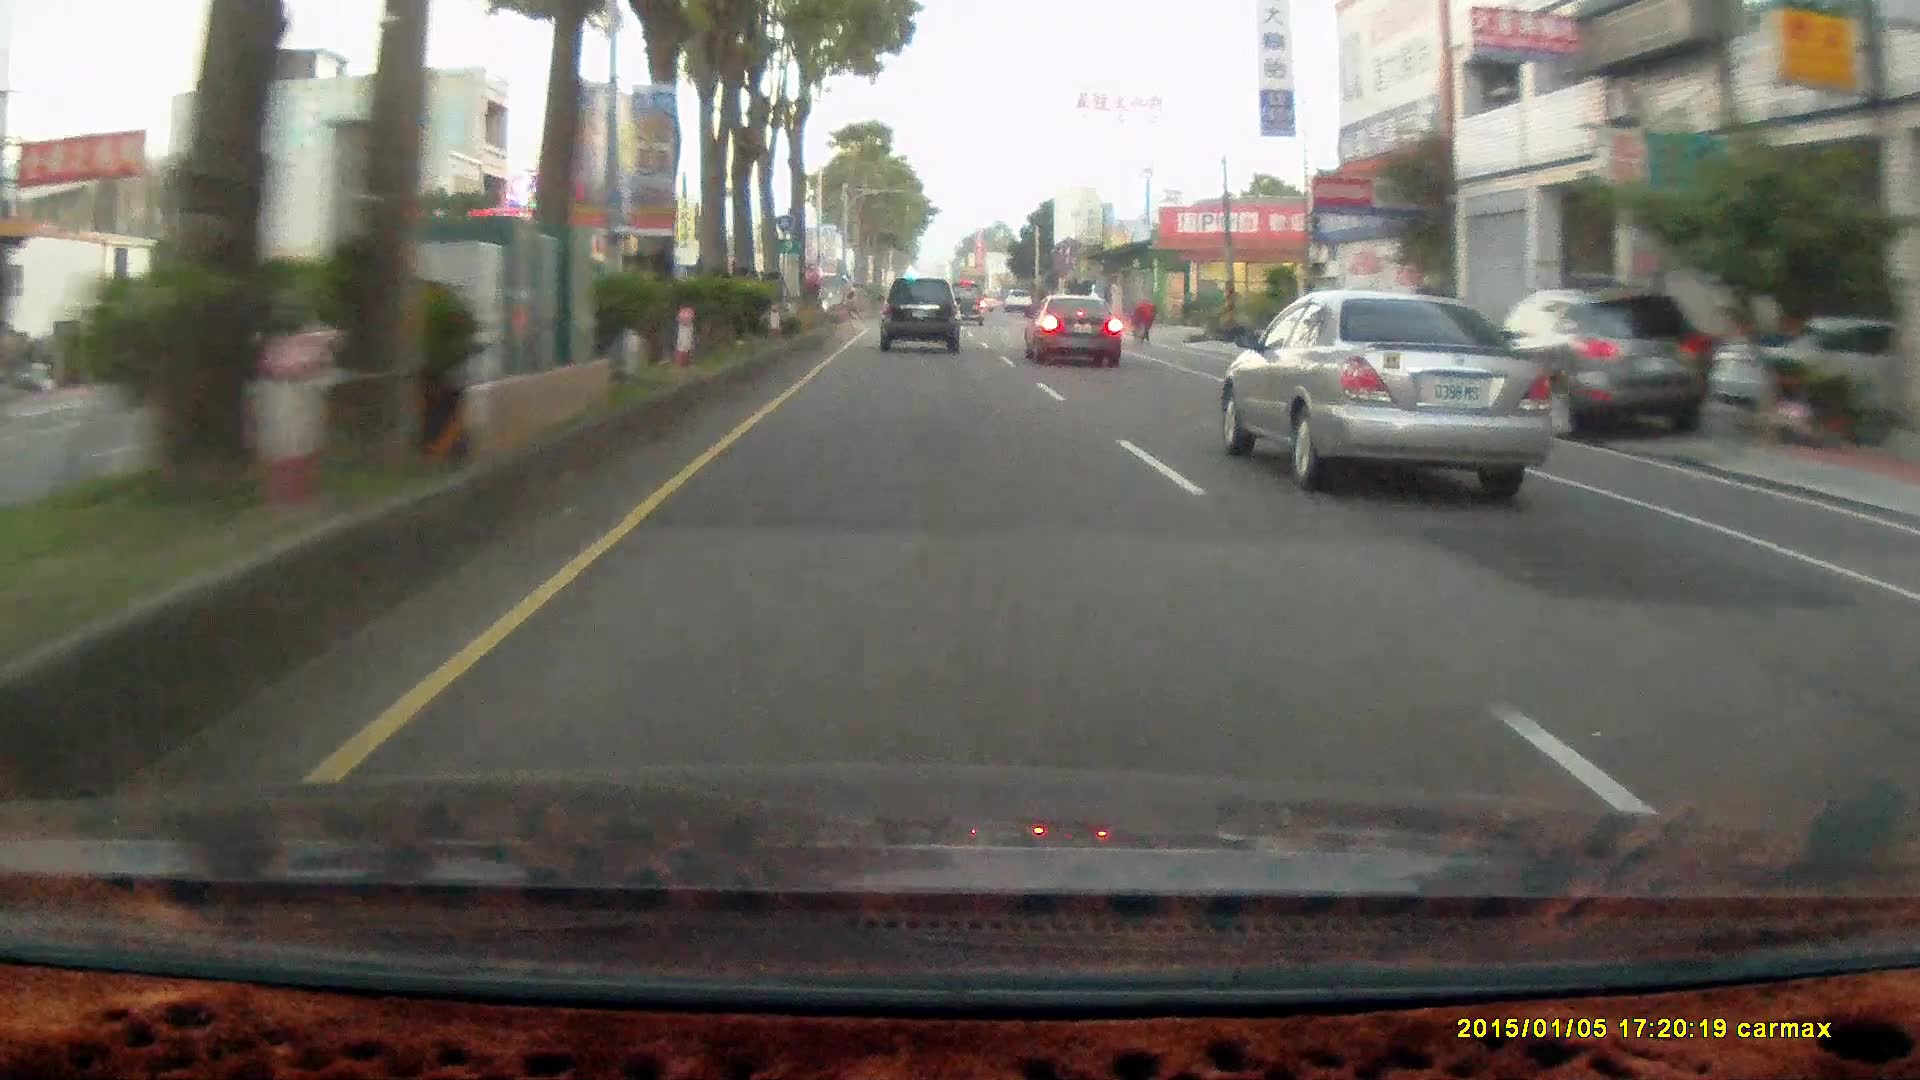pedestrian: (1137, 295, 1157, 344), (1137, 295, 1157, 343)
vehicle: (1220, 292, 1546, 480), (1464, 284, 1715, 437), (1465, 284, 1716, 437), (1706, 313, 1920, 429), (1022, 294, 1126, 370), (1022, 289, 1121, 365), (879, 278, 966, 352), (879, 277, 960, 352), (947, 283, 987, 329)
